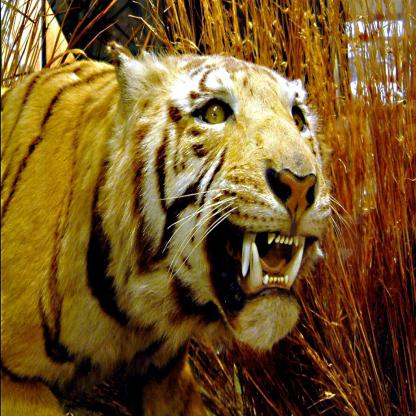Tiger: (0, 38, 329, 404)
